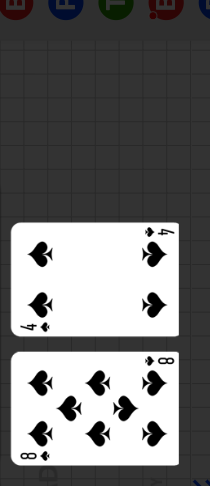4S: (143, 226, 176, 239)
8S: (19, 449, 53, 462)
